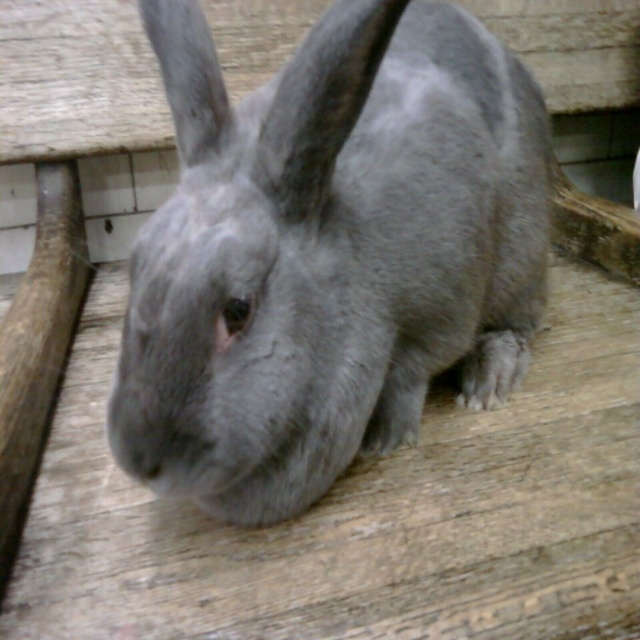Rabbit: (62, 0, 553, 531)
